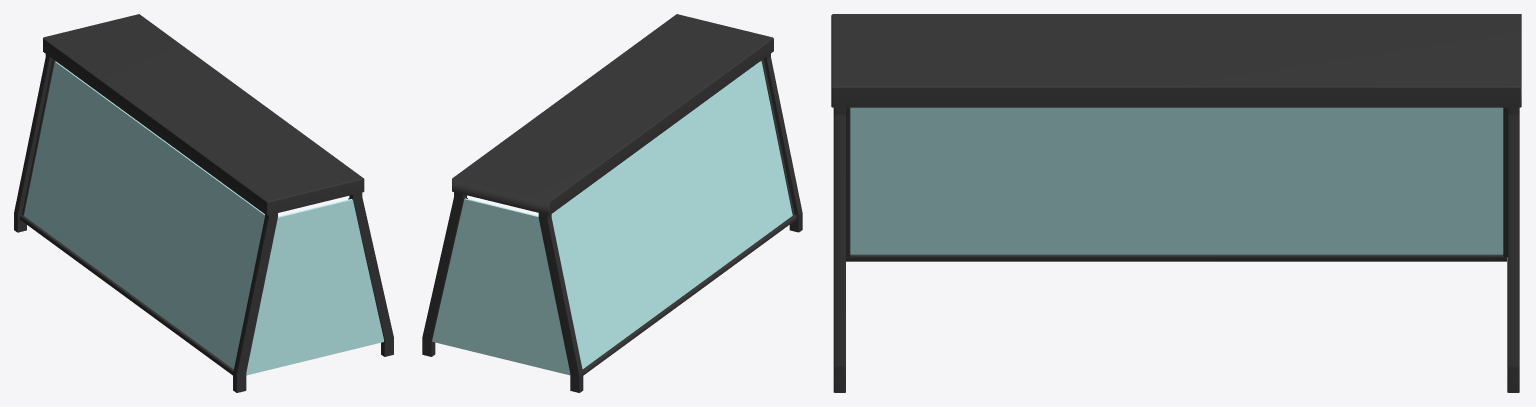
Rendered from SM_ServingLine_Hood.fbx.
The picture shows the model from 3 angles, left to right: view 1: azimuth 30°, elevation 25°; view 2: azimuth 150°, elevation 25°; view 3: azimuth 270°, elevation 25°; orthographic projection. The views are drawn at different scales.
Visible parts, largest first — view 1: SM_ServingLine_Hood_LOD0; view 2: SM_ServingLine_Hood_LOD0; view 3: SM_ServingLine_Hood_LOD0.
Boxes of the visible parts, bbox=[...] form: SM_ServingLine_Hood_LOD0: bbox=[14, 14, 393, 392]; SM_ServingLine_Hood_LOD0: bbox=[422, 14, 802, 392]; SM_ServingLine_Hood_LOD0: bbox=[831, 14, 1521, 392].
Size of the model in its own units: 48.26 by 119 by 54.
